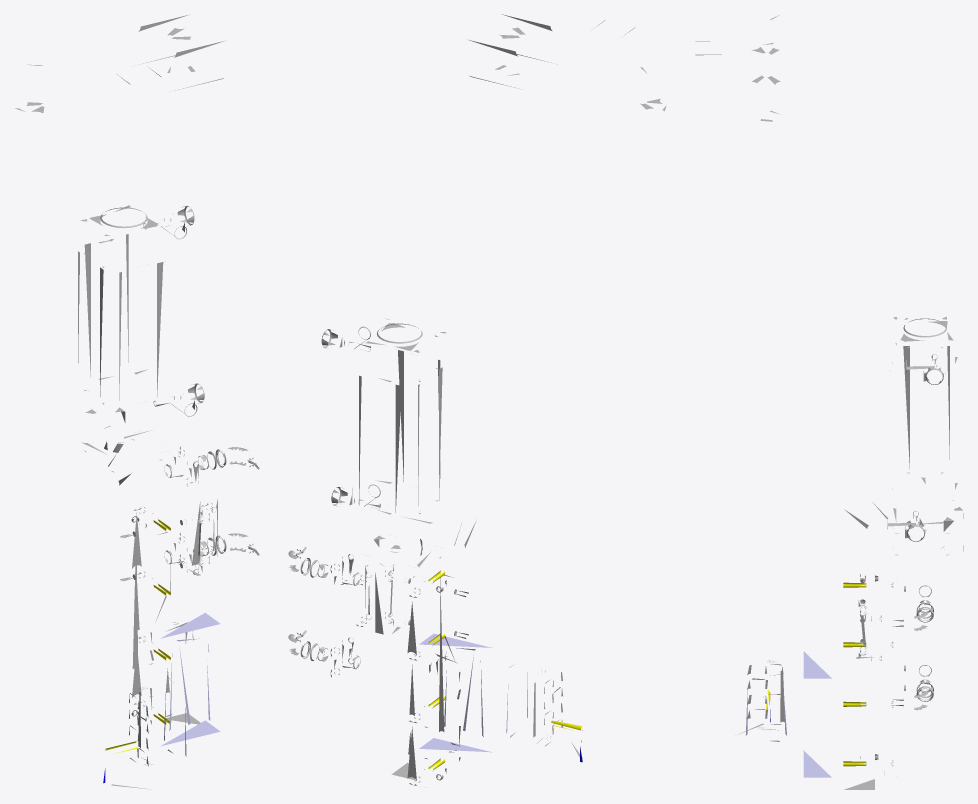
3 renders of one model, left to right at view 1: azimuth 30°, elevation 25°; view 2: azimuth 150°, elevation 25°; view 3: azimuth 270°, elevation 25°, orthographic. The views are drawn at different scales.
Parts seen in each view (by area): view 1: F19721000063102000111_001_zb_ub_stiftzieher_11_fa (×3); view 2: F19721000063102000111_001_zb_ub_stiftzieher_11_fa (×2); view 3: F19721000063102000111_001_zb_ub_stiftzieher_11_fa (×3).
Boxes of the visible parts, left/top/right/bottom form: F19721000063102000111_001_zb_ub_stiftzieher_11_fa (×3): left=15, top=14, right=259, bottom=789; F19721000063102000111_001_zb_ub_stiftzieher_11_fa (×2): left=288, top=14, right=666, bottom=787; F19721000063102000111_001_zb_ub_stiftzieher_11_fa (×3): left=695, top=15, right=963, bottom=789.
Bounding box in the file's own units: 303 × 245 × 685.
